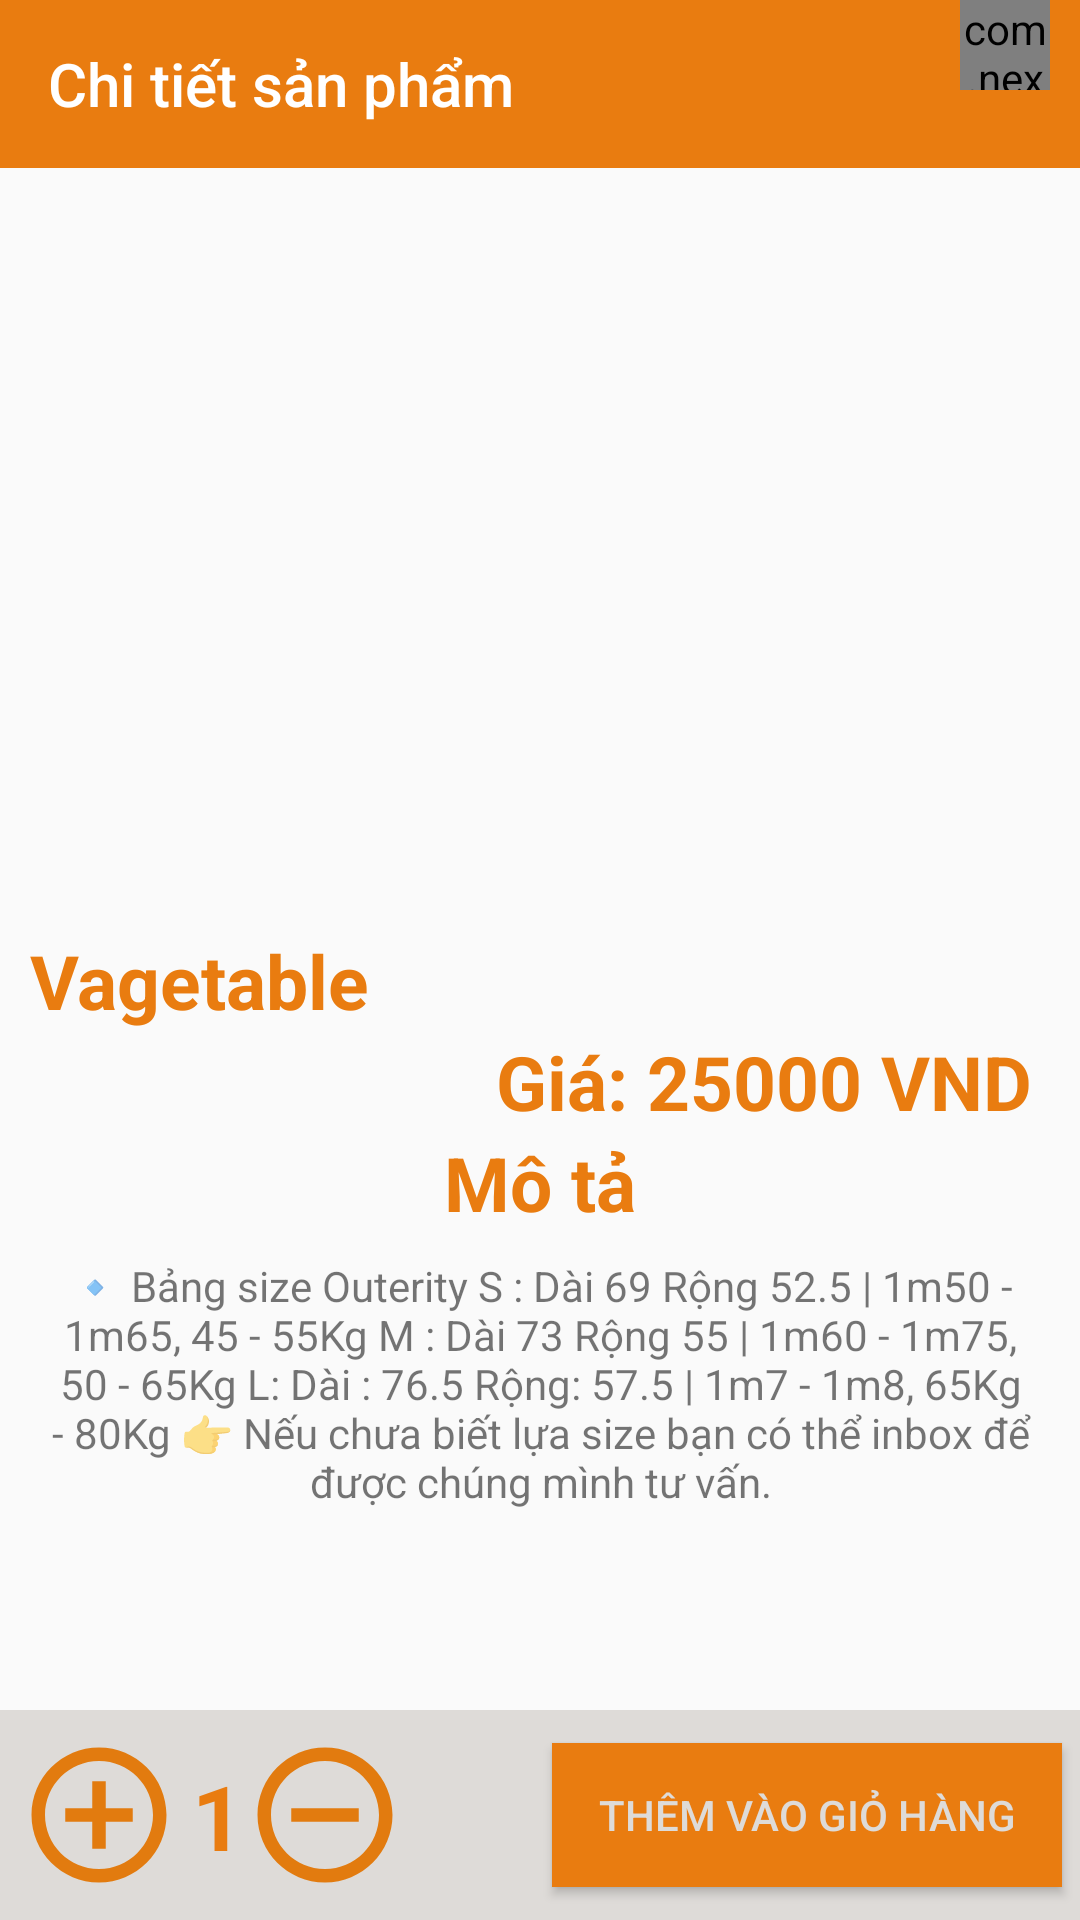

Icons on this 1080px×1920px Android screen, each with its box as {"x1": x1, "y1": y1, "x2": x2, "y2": y2}:
add circle: {"x1": 31, "y1": 1747, "x2": 167, "y2": 1883}
remove circle: {"x1": 257, "y1": 1747, "x2": 393, "y2": 1883}
